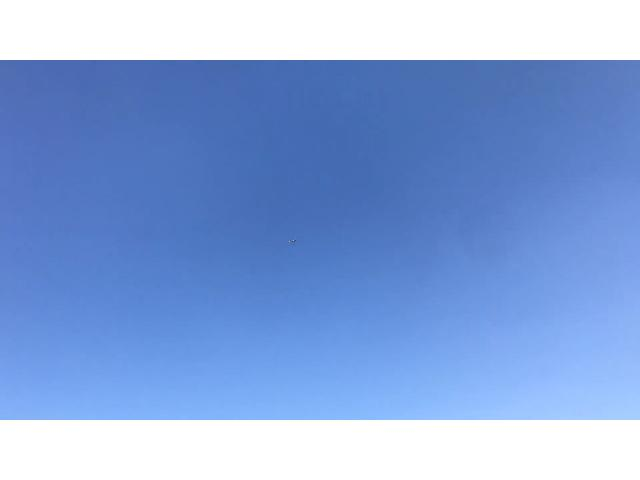Anti-Drone: (282, 232, 304, 247)
